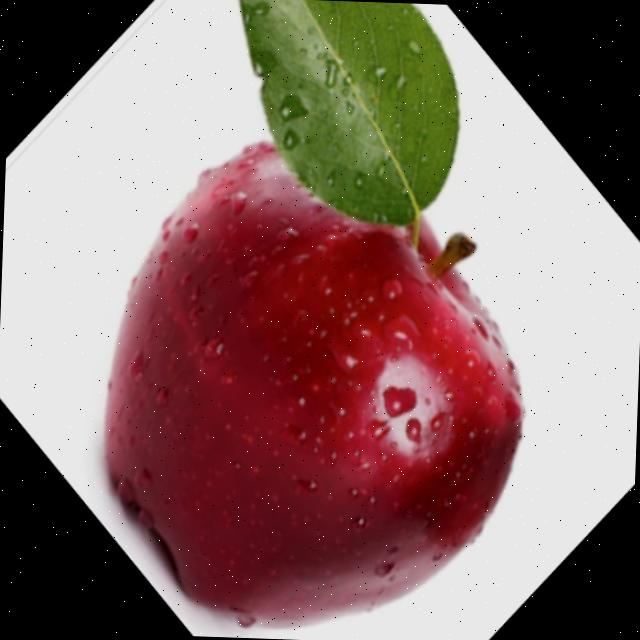Ripe: (94, 130, 541, 640)
